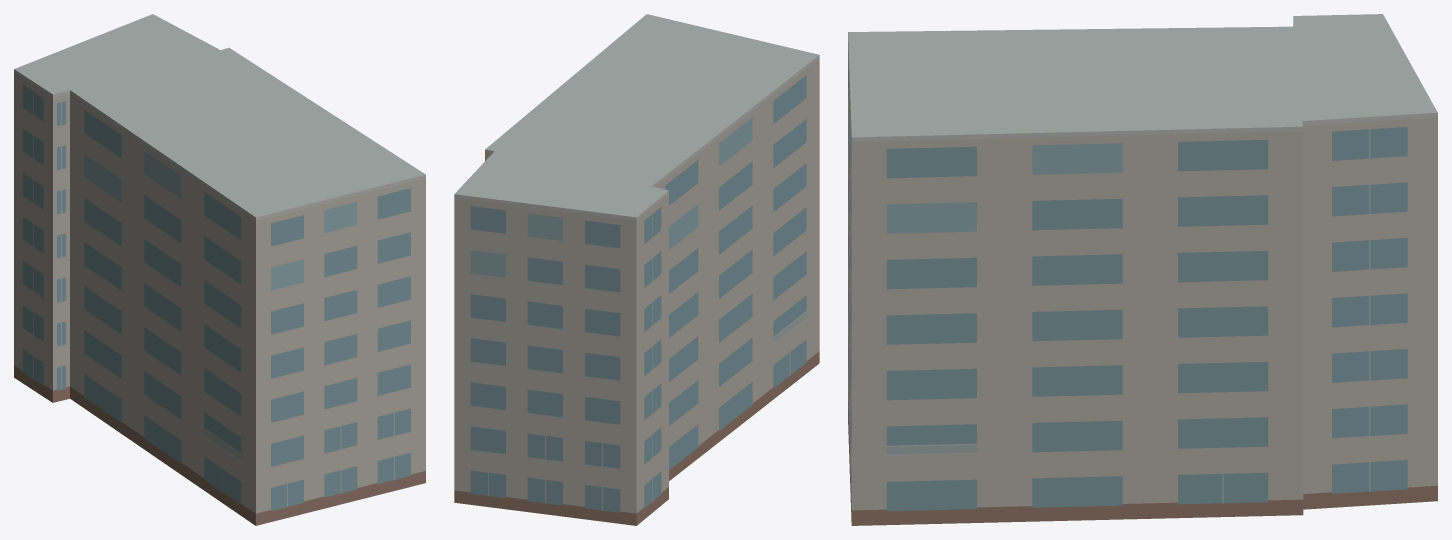
The model's file is survey-upis-32821113.glb.
3 views of the same model, side by side, from view 1: azimuth 30°, elevation 25°; view 2: azimuth 150°, elevation 25°; view 3: azimuth 270°, elevation 25° (orthographic). The views are drawn at different scales.
Parts seen in each view (by area): view 1: survey-upis-32821113.tmp; view 2: survey-upis-32821113.tmp; view 3: survey-upis-32821113.tmp.
Boxes of the visible parts, x1,y1,x2,y2 form: survey-upis-32821113.tmp: [14, 14, 425, 525]; survey-upis-32821113.tmp: [454, 14, 819, 525]; survey-upis-32821113.tmp: [848, 14, 1437, 525].
Size of the model in its own units: 14.05 by 20.6 by 28.35.
